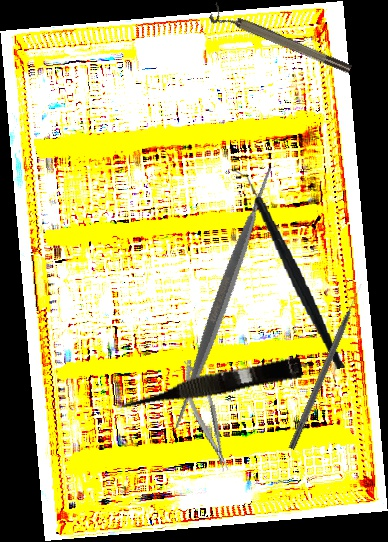Chopper: (228, 159, 346, 378)
Fixation Ring: (207, 1, 354, 83)
Hook Surgical: (287, 282, 366, 451)
Micro Scissor: (113, 352, 304, 417)
Needle Holder: (176, 356, 235, 476)
Spatula Surgical: (87, 161, 360, 435)
